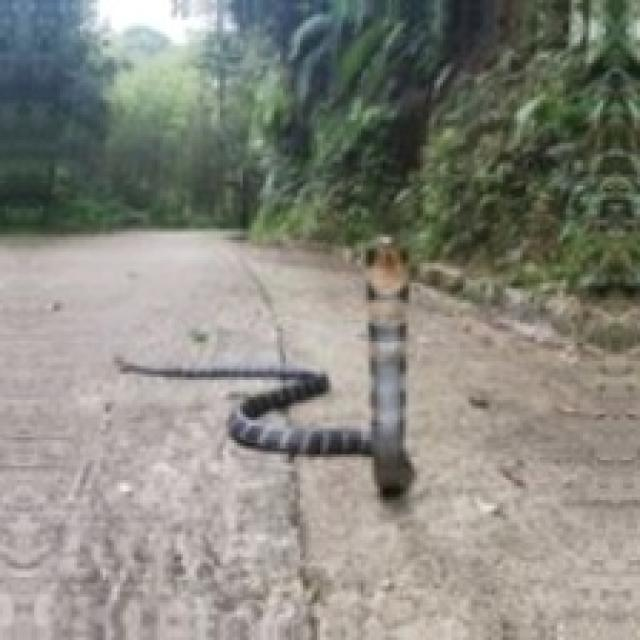king cobra: (117, 237, 411, 494)
